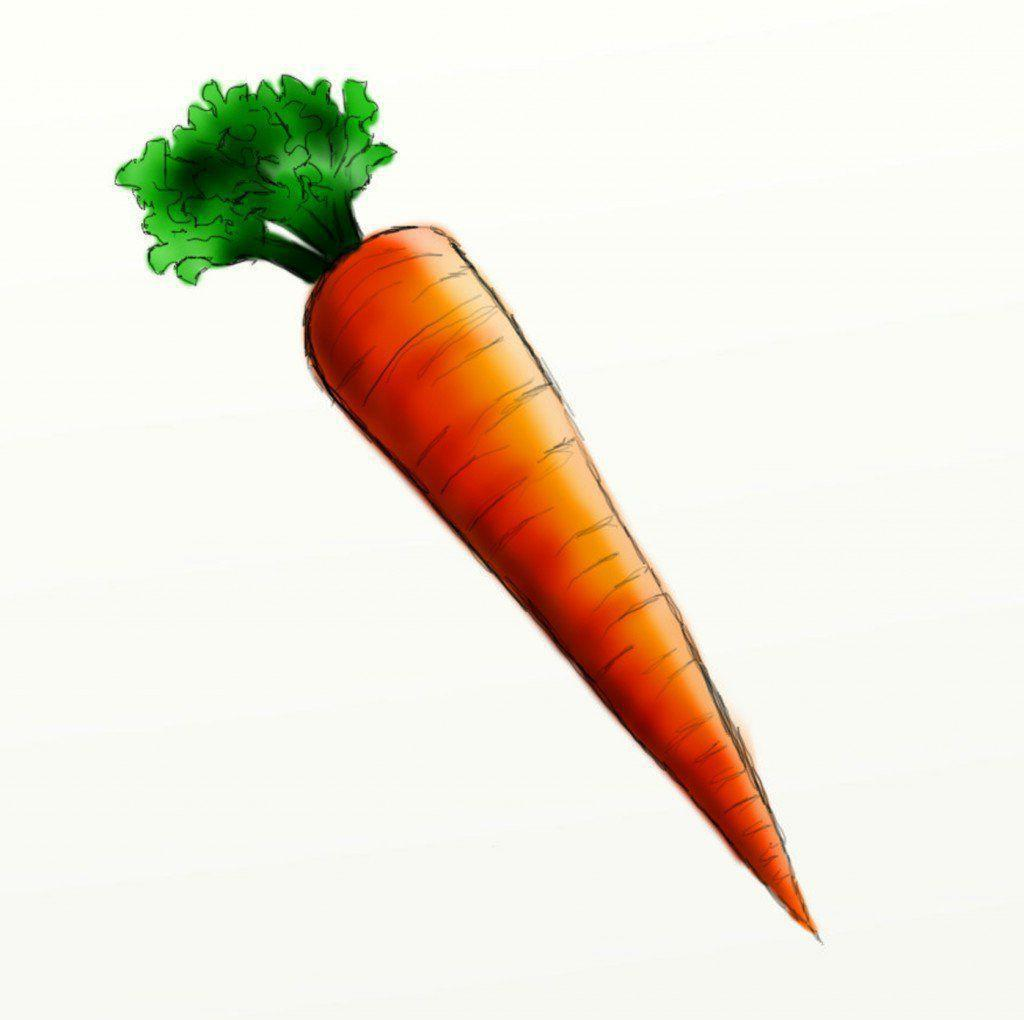carrot: (169, 110, 883, 973)
